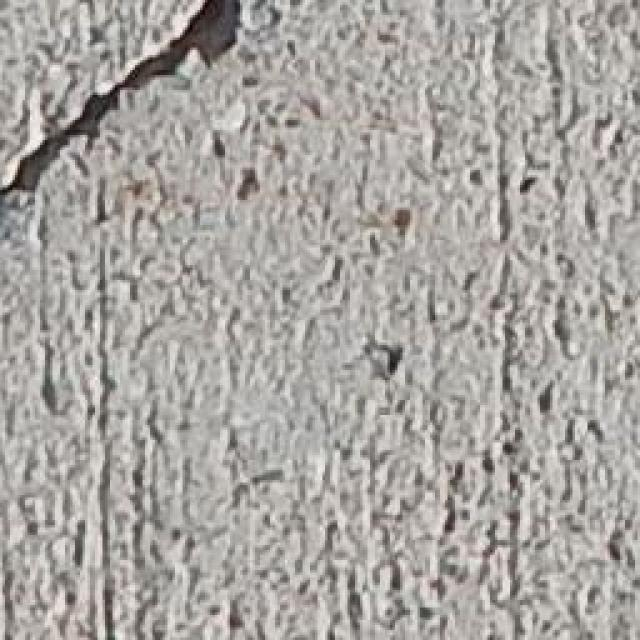concrete-crack: (0, 0, 250, 214)
